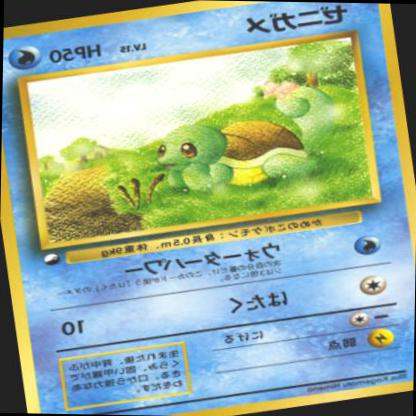Squirtle: (1, 1, 416, 416)
